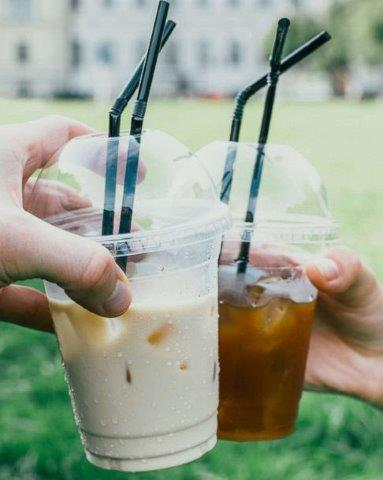sedotan: (222, 31, 328, 208), (104, 21, 175, 246), (117, 1, 170, 272), (238, 20, 289, 280)
